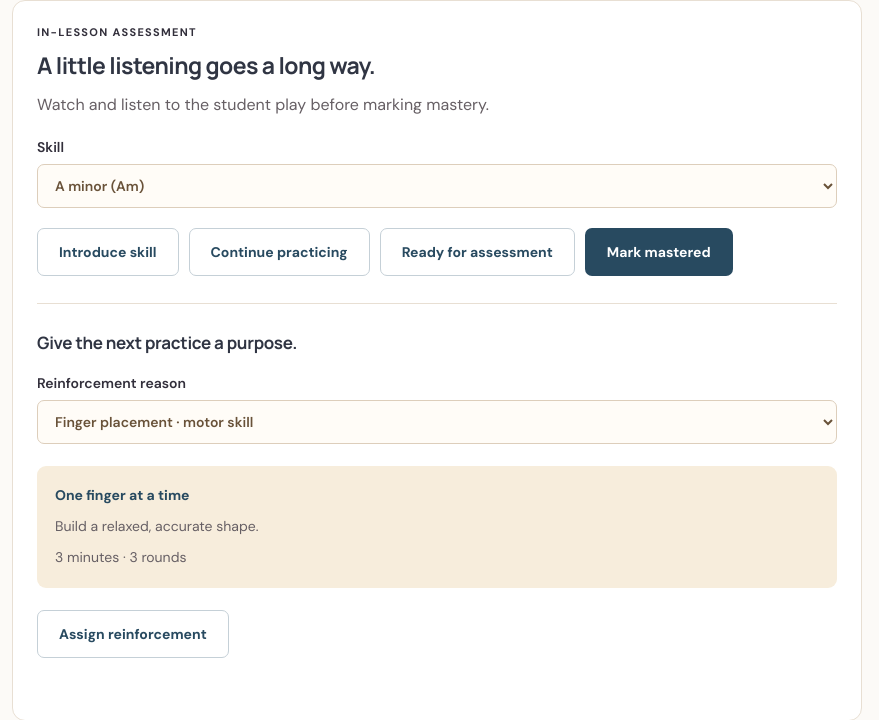
assigns memory-specific reconstruction and records reinforcement
The width and height of the screenshot is (879, 720).
Select "A minor (Am)" in the dropdown labelled "Skill". click: (437, 186)
box: [37, 164, 837, 208]
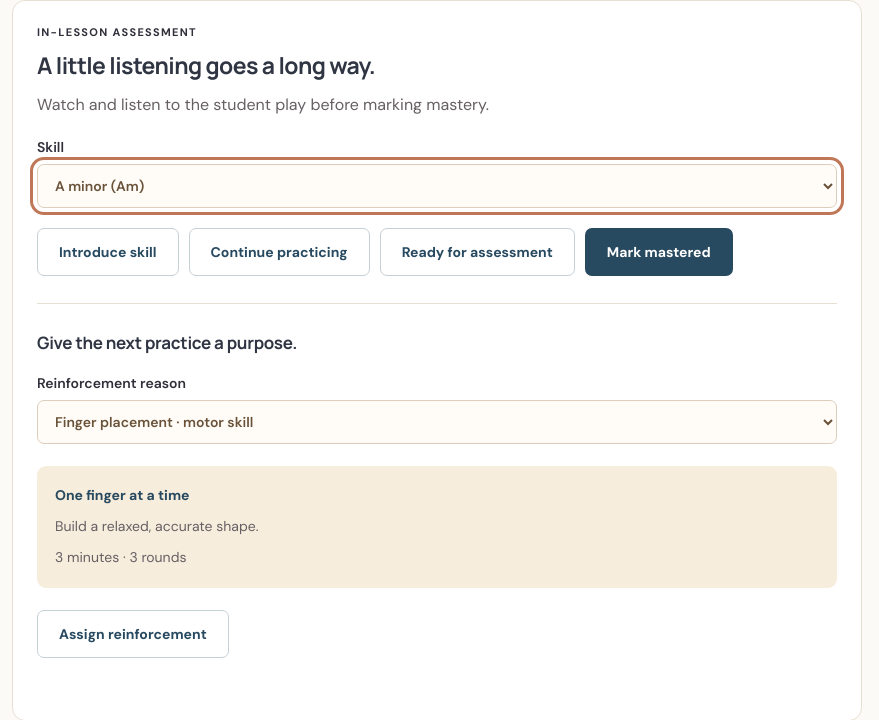
Select "Shape memory · understanding" in the dropdown labelled "Reinforcement reason". click: (437, 422)
box: [37, 400, 837, 444]
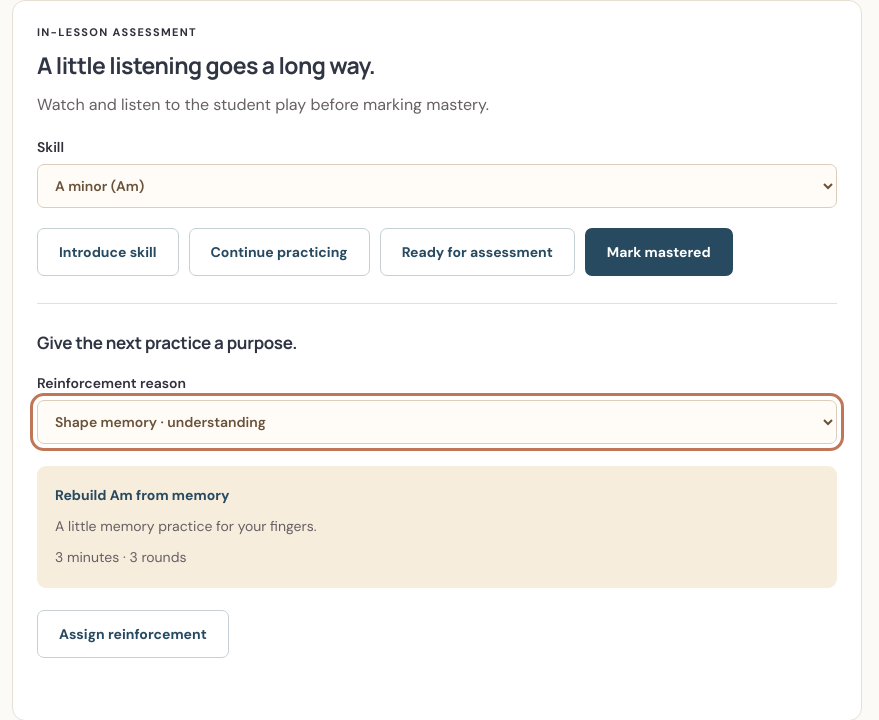
Click the button "Assign reinforcement". click: click(133, 634)
box: [37, 610, 229, 658]
(page scrolled)
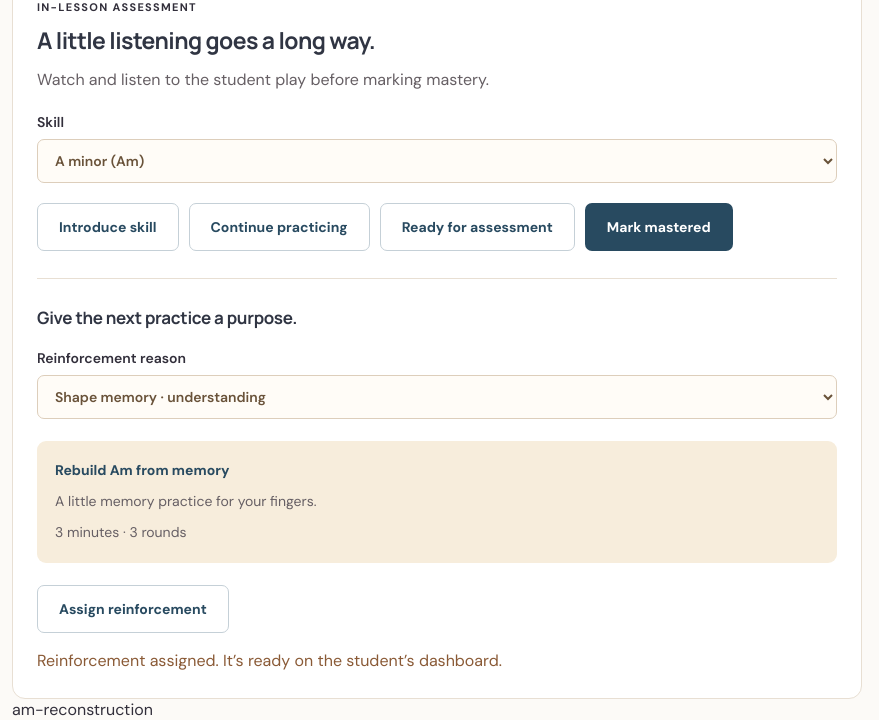
Result: the text with test id "assignment" reads "am-reconstruction" at [12, 699, 153, 719]
